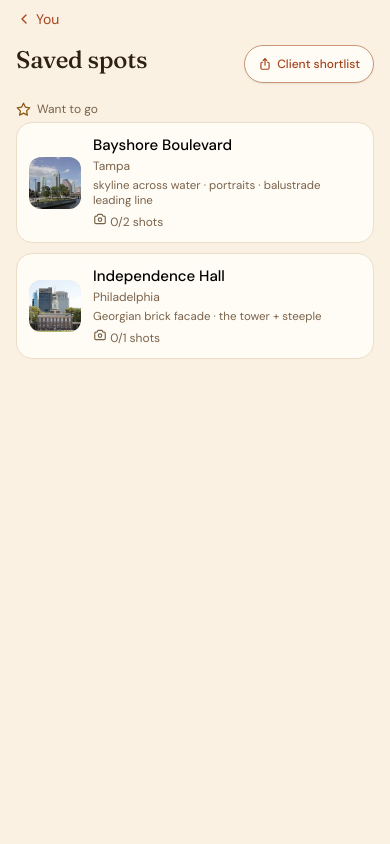
SavedScreen — signed-in shortlist builder (v2) › shows a note input per picked spot and shares a stored-list URL
The image size is (390, 844).
Click the button "Client shortlist" at (309, 64), box [244,45,374,83]
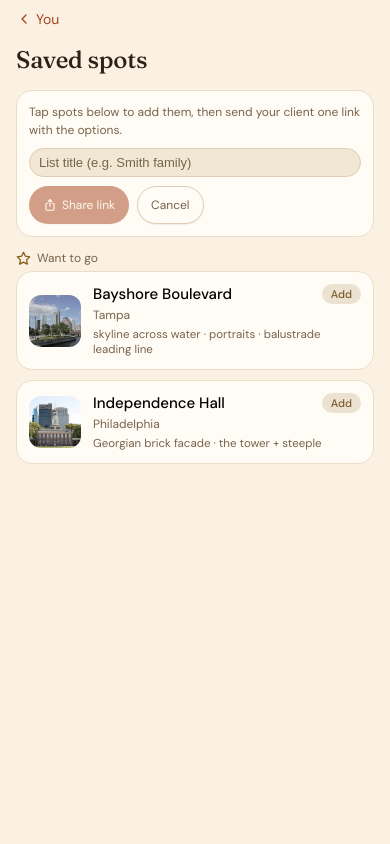
Expected: the field labelled "note for" is not shown
Click the button "Bayshore Boulevard" at (55, 320), box [16,271,374,370]
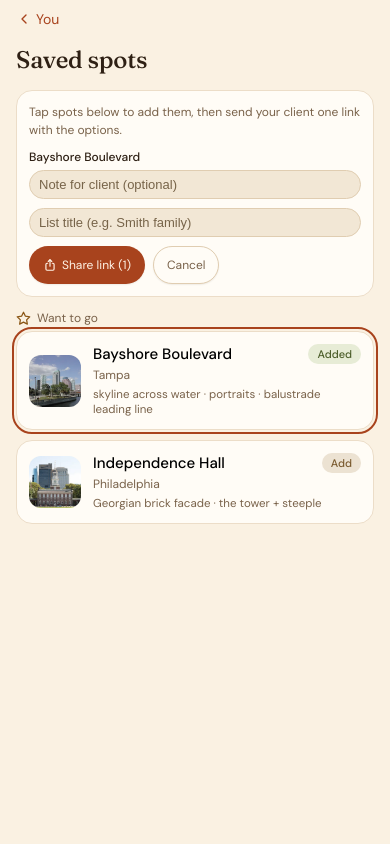
Type "Golden hour magic here" into the field named "Note for Bayshore Boulevard" at (195, 184), box [29,170,361,199]
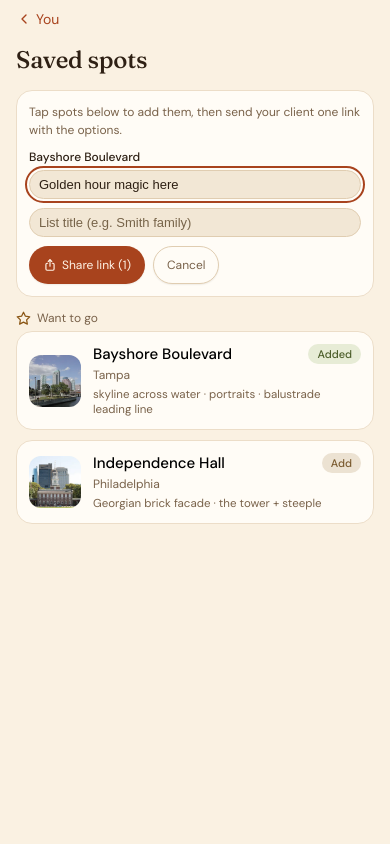
Click the button "Independence Hall" at (55, 482), box [16,440,374,524]
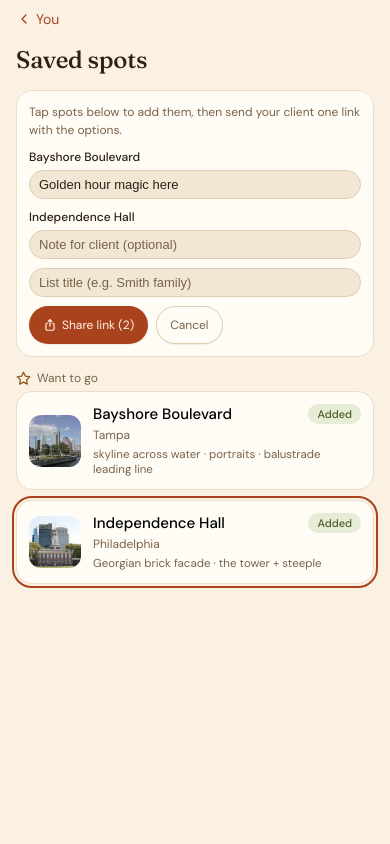
Type "Smith family" into the field with placeholder "List title (e.g. Smith family)" at (195, 282), box [29,268,361,297]
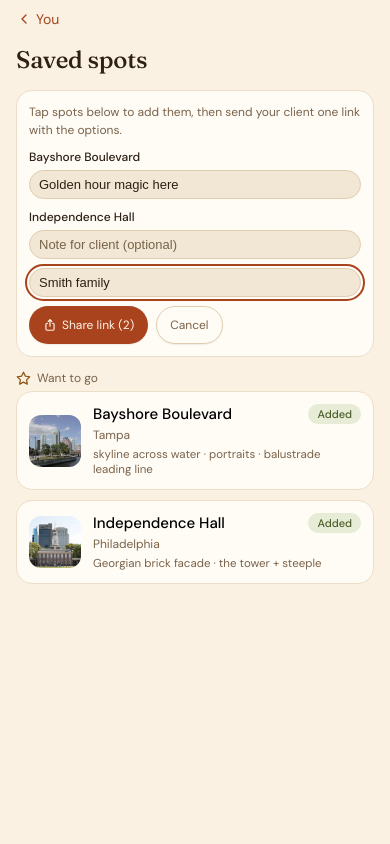
Click the button "Share link (2)" at (89, 325), box [29,306,148,344]
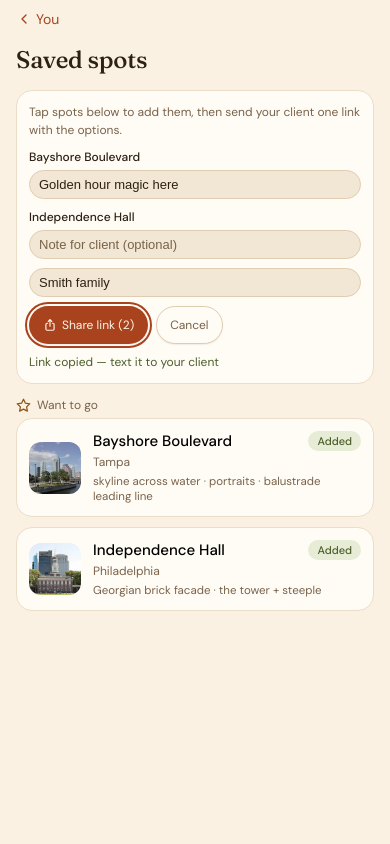
Result: the text "Link copied — text it to your client" is shown at [29,354,219,370]
